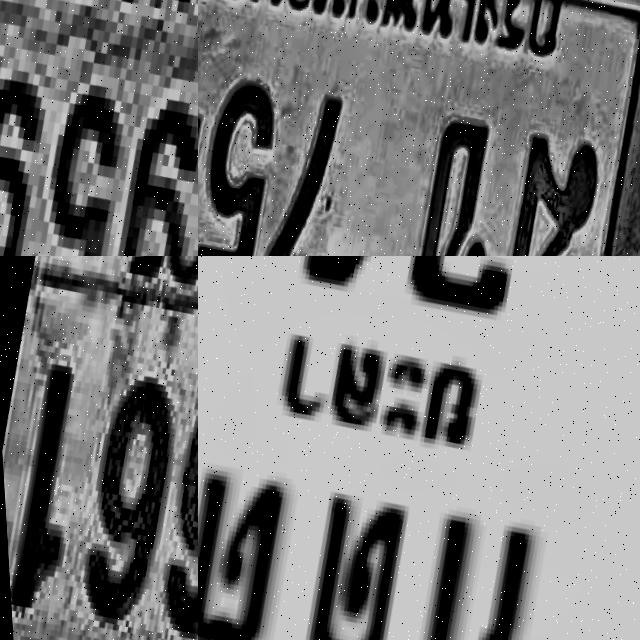license-plate: (198, 256, 640, 640), (198, 0, 640, 256), (0, 256, 198, 640), (0, 0, 198, 256)
